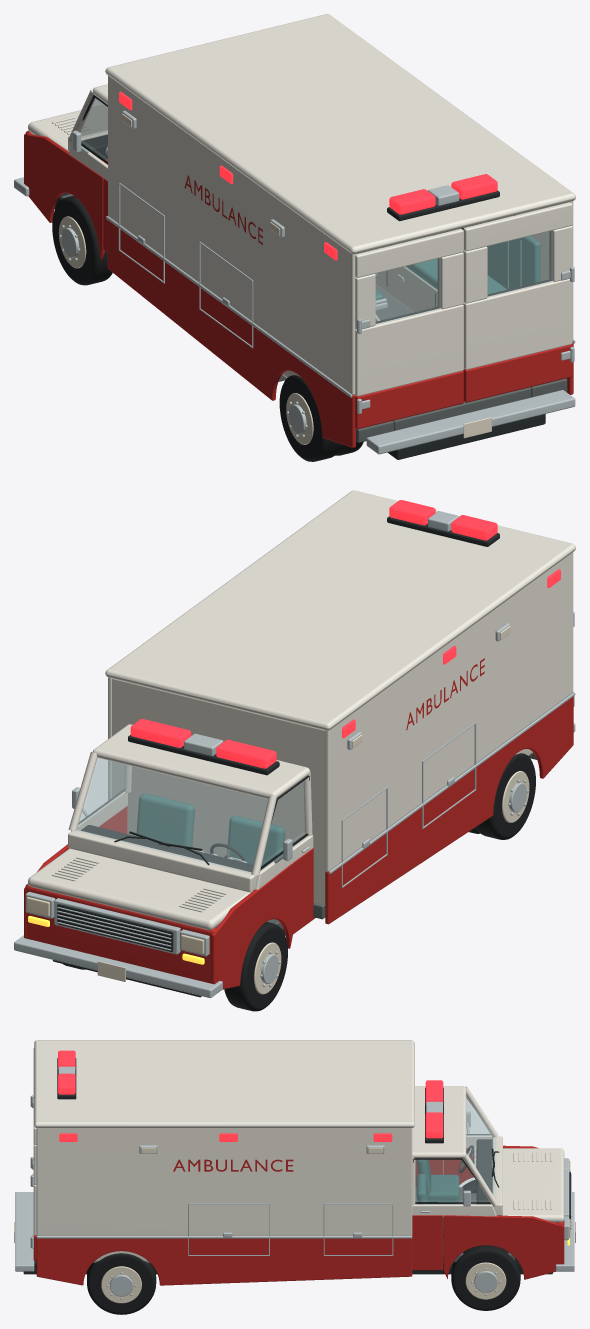
The model's file is BraunParts.fbx.
3 renders of one model, top to bottom at view 1: azimuth 30°, elevation 25°; view 2: azimuth 150°, elevation 25°; view 3: azimuth 270°, elevation 25°, orthographic. The views are drawn at different scales.
Visible parts, largest first — view 1: Braun - Lift-off module roof, Braun - Street module wall, Braun - Street lower side, Braun - Curb door lower.001, Braun - Street door lower.001, Braun - Street cab fender, Braun - Bumper and rear loading step.001, Braun - Curb door bottom, Braun - Street door bottom, Braun - Street door glass, Braun - Curb door glass, Braun - Curb door header (+23 smaller); view 2: Braun - Lift-off module roof, Braun - Street module wall, Braun - Front partition, Braun - Cab windshield, Braun - Street lower side, Braun - Short Ford hood, Braun - Cab roof, Braun - Front face, Braun - Street cab fender, Braun - Cowl apron, Braun - Bumper and rear loading step, Braun - Road tire (+22 smaller); view 3: Braun - Curb module wall, Braun - Lift-off module roof, Braun - Curb lower side, Braun - Curb cab fender, Braun - Short Ford hood, Braun - Cab roof, Braun - Road tire.001, Braun - Curb side window, Braun - Road tire.003, Braun - Curb door lower, Braun - Cab windshield, Braun - Bumper and rear loading step.001 (+19 smaller).
Part boxes in pixels (box(x1,y1,x2,y2)): Braun - Lift-off module roof: box(105, 14, 575, 254); Braun - Street module wall: box(108, 75, 356, 394); Braun - Street lower side: box(107, 220, 355, 447); Braun - Curb door lower.001: box(463, 279, 572, 369); Braun - Street door lower.001: box(355, 304, 463, 396); Braun - Street cab fender: box(24, 134, 104, 258); Braun - Bumper and rear loading step.001: box(366, 390, 575, 454); Braun - Curb door bottom: box(463, 344, 572, 402); Braun - Street door bottom: box(355, 371, 463, 429); Braun - Street door glass: box(375, 258, 440, 324); Braun - Curb door glass: box(487, 231, 552, 297); Braun - Curb door header: box(463, 202, 572, 251); Braun - Lift-off module roof: box(105, 490, 575, 730); Braun - Street module wall: box(325, 552, 573, 871); Braun - Front partition: box(112, 678, 327, 905); Braun - Cab windshield: box(75, 758, 267, 873); Braun - Street lower side: box(325, 696, 573, 924); Braun - Short Ford hood: box(28, 848, 252, 930); Braun - Cab roof: box(93, 724, 310, 799); Braun - Front face: box(25, 883, 217, 983); Braun - Street cab fender: box(211, 863, 292, 989); Braun - Cowl apron: box(68, 830, 256, 892); Braun - Bumper and rear loading step: box(14, 935, 222, 998); Braun - Road tire: box(224, 921, 287, 1011); Braun - Curb module wall: box(36, 1128, 412, 1235); Braun - Lift-off module roof: box(34, 1040, 414, 1128); Braun - Curb lower side: box(36, 1238, 412, 1285); Braun - Curb cab fender: box(443, 1215, 564, 1279); Braun - Short Ford hood: box(502, 1148, 564, 1222); Braun - Cab roof: box(412, 1086, 466, 1158); Braun - Road tire.001: box(451, 1245, 520, 1310); Braun - Curb side window: box(415, 1160, 489, 1201); Braun - Road tire.003: box(87, 1253, 156, 1314); Braun - Curb door lower: box(412, 1215, 442, 1270); Braun - Cab windshield: box(466, 1096, 495, 1198); Braun - Bumper and rear loading step.001: box(15, 1192, 34, 1271).
Bounding box in the file's own units: 251 × 280 × 688.
